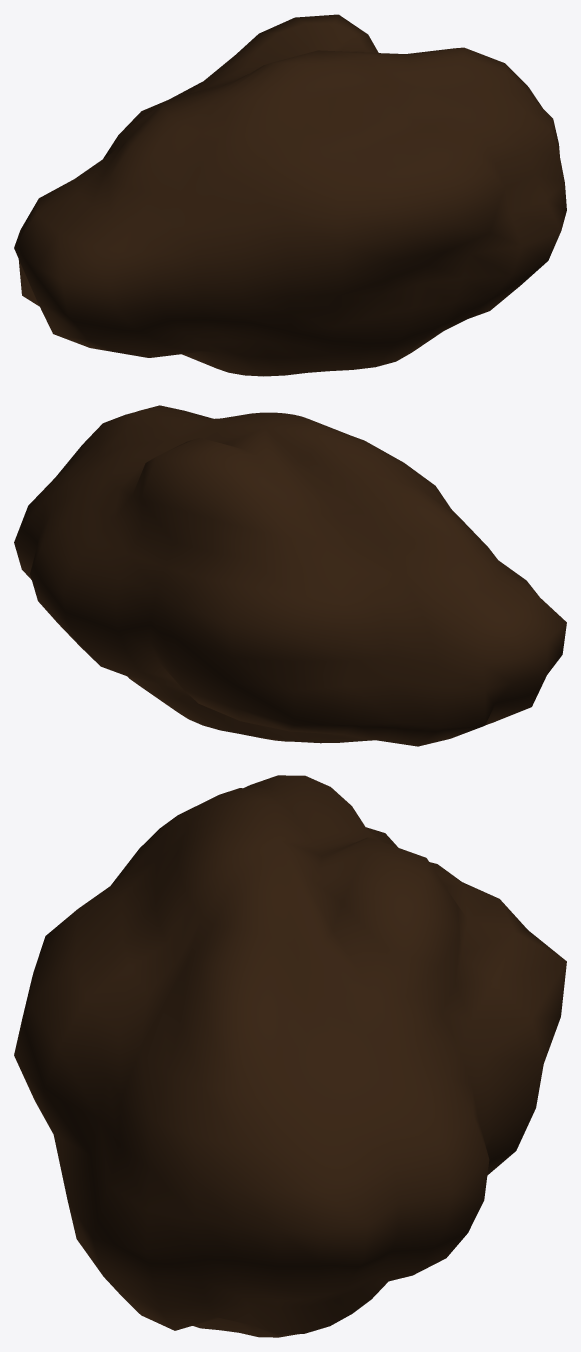
File: meteor.fbx
The picture shows the model from 3 angles, top to bottom: view 1: azimuth 30°, elevation 25°; view 2: azimuth 150°, elevation 25°; view 3: azimuth 270°, elevation 25°; orthographic projection. The views are drawn at different scales.
Visible parts, largest first — view 1: meteor-Low; view 2: meteor-Low; view 3: meteor-Low.
Boxes of the visible parts, bbox=[...] form: meteor-Low: bbox=[14, 14, 566, 376]; meteor-Low: bbox=[14, 405, 566, 746]; meteor-Low: bbox=[14, 775, 566, 1337].
Bounding box in the file's own units: 228 × 129 × 142.
